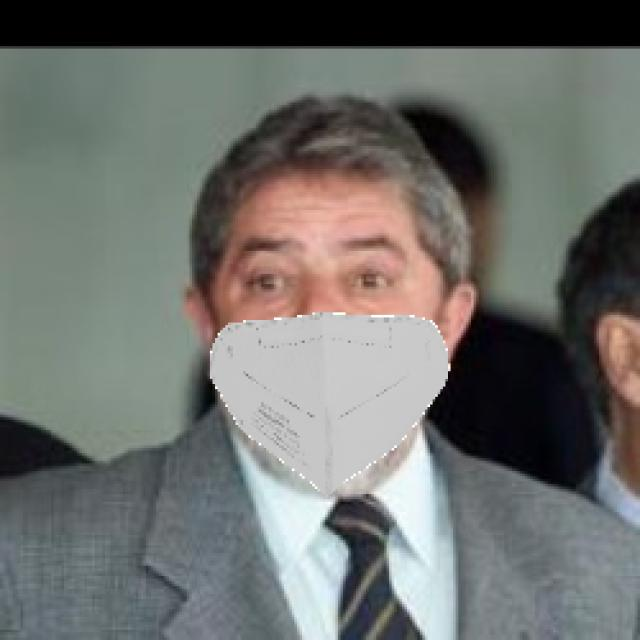mask: (211, 302, 469, 501)
